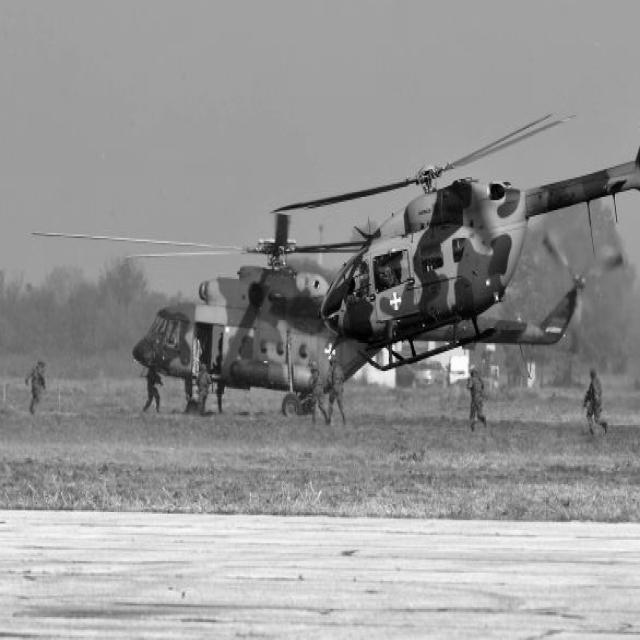helicopter: (231, 19, 640, 397), (113, 223, 475, 433)
